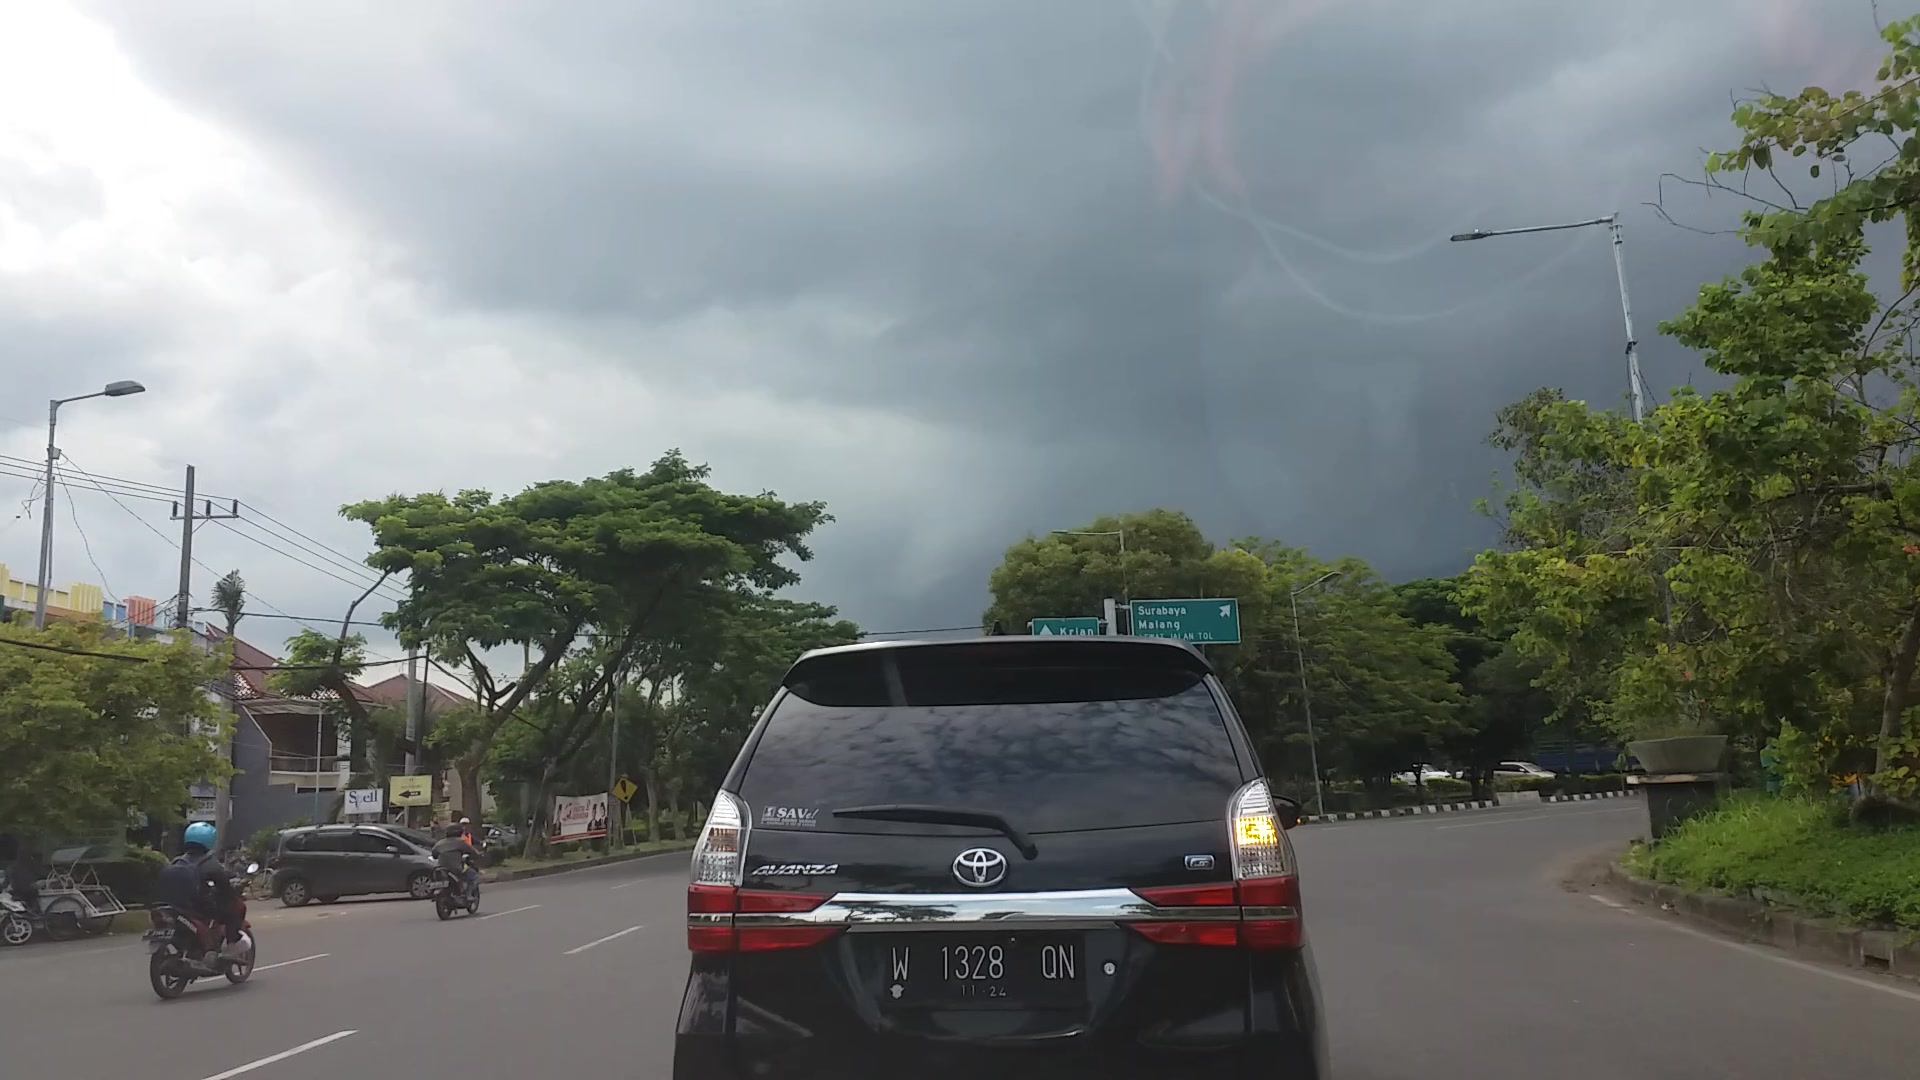plate_positive: (882, 928, 1083, 1013)
